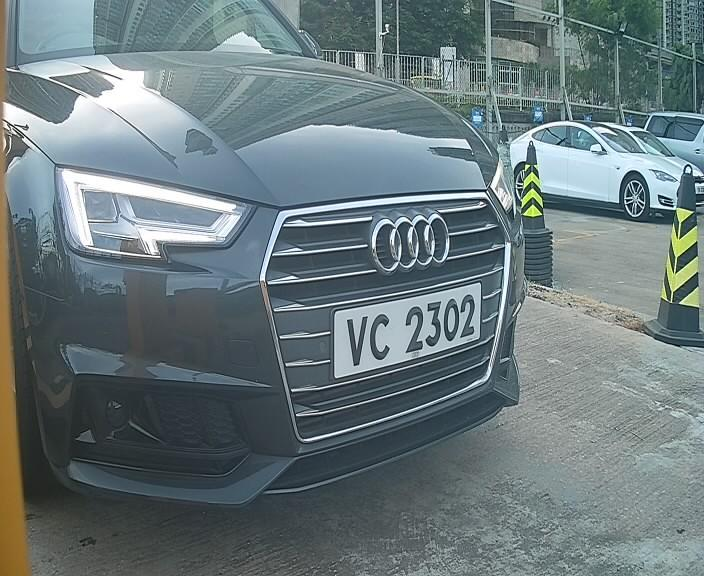privatecar: (4, 13, 554, 515)
